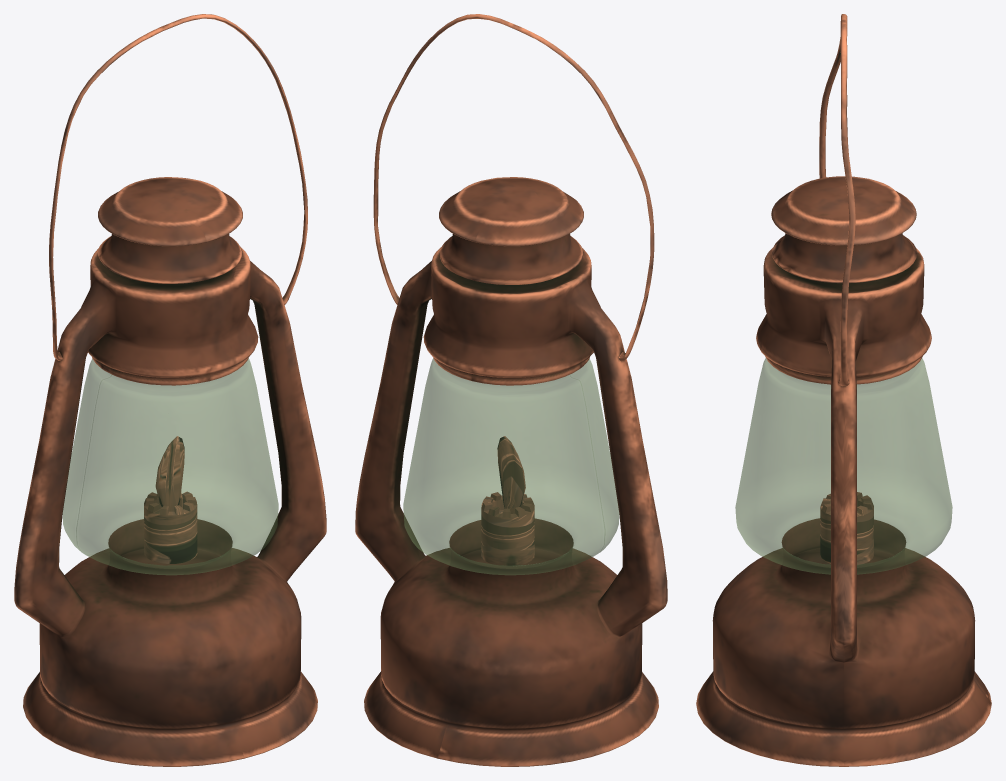
Rendered from oil_lamp.glb.
The picture shows the model from 3 angles, left to right: view 1: azimuth 30°, elevation 25°; view 2: azimuth 150°, elevation 25°; view 3: azimuth 270°, elevation 25°; orthographic projection.
Parts seen in each view (by area): view 1: Lamp_Low_Poly_OBJ_UV:Lampo_lambert1_0; view 2: Lamp_Low_Poly_OBJ_UV:Lampo_lambert1_0; view 3: Lamp_Low_Poly_OBJ_UV:Lampo_lambert1_0.
Boxes of the visible parts, box(x1,y1,x2,y2) form: Lamp_Low_Poly_OBJ_UV:Lampo_lambert1_0: box(14, 14, 326, 766); Lamp_Low_Poly_OBJ_UV:Lampo_lambert1_0: box(355, 14, 667, 766); Lamp_Low_Poly_OBJ_UV:Lampo_lambert1_0: box(696, 14, 991, 766).
Bounding box in the file's own units: 4.59 × 9.69 × 3.8.
Materials: 1 (1 with a texture image).
